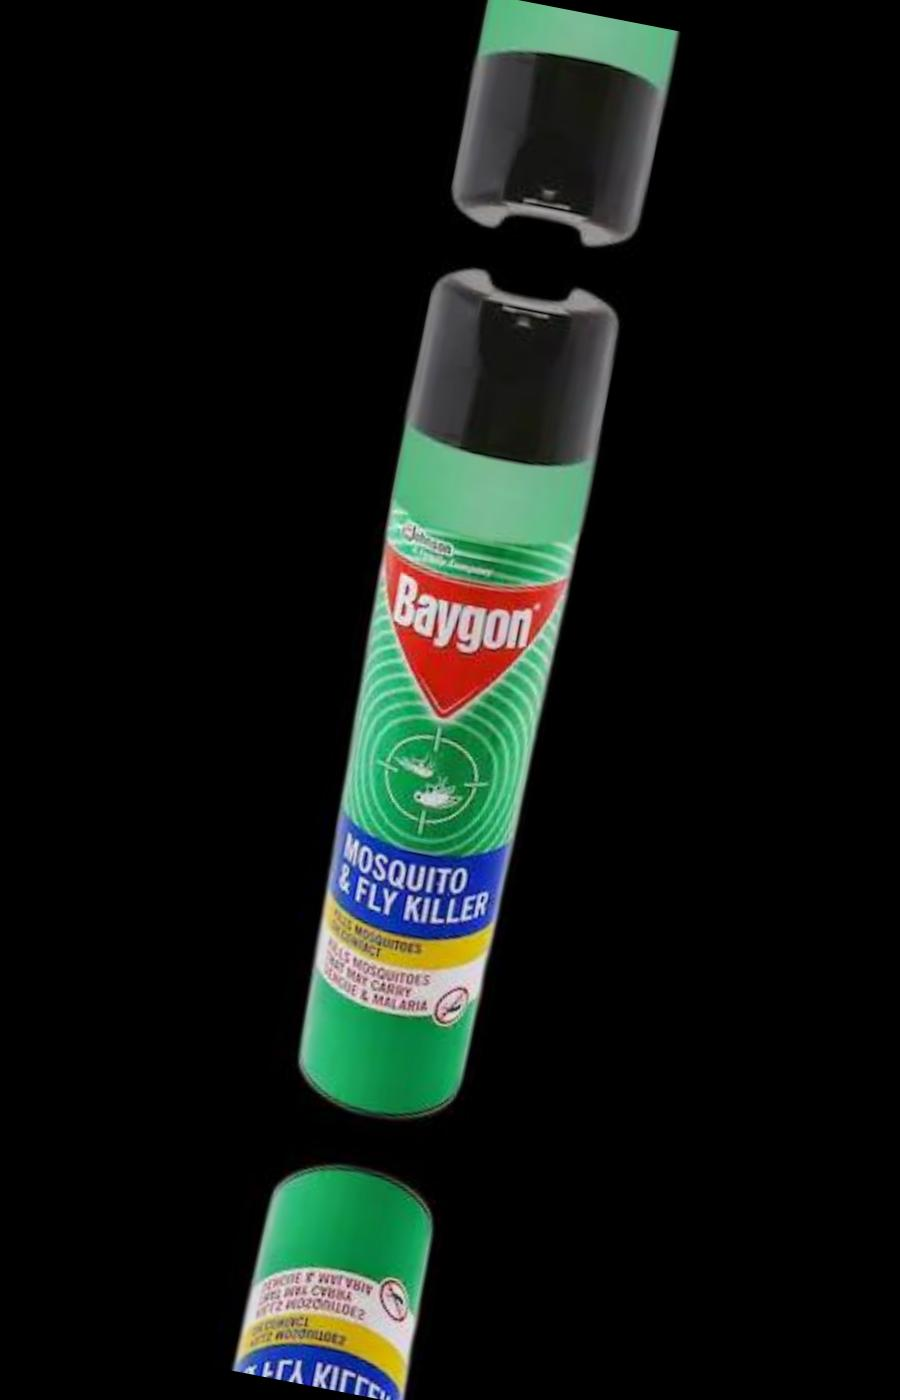Baygon Mosquito - Fly Killer Spray 625 ml: (266, 261, 635, 1133), (437, 0, 686, 256), (213, 1150, 461, 1400)
